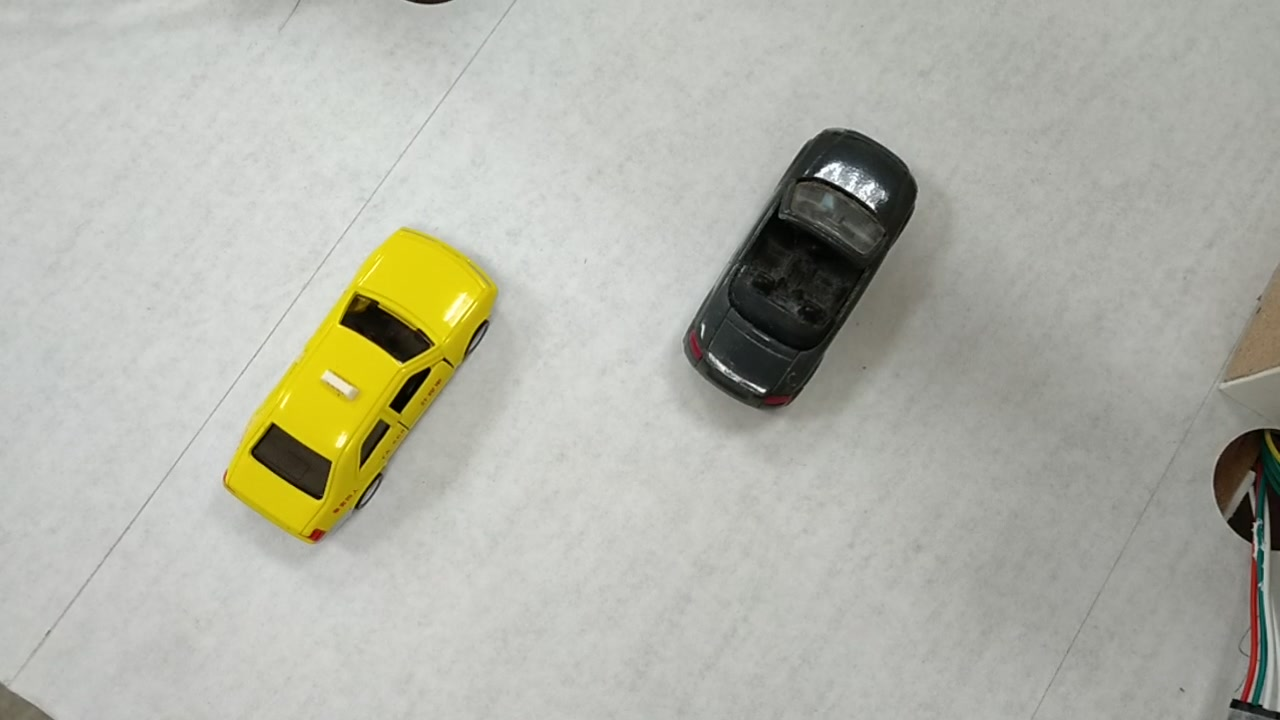car: (224, 232, 499, 550), (683, 125, 925, 447)
